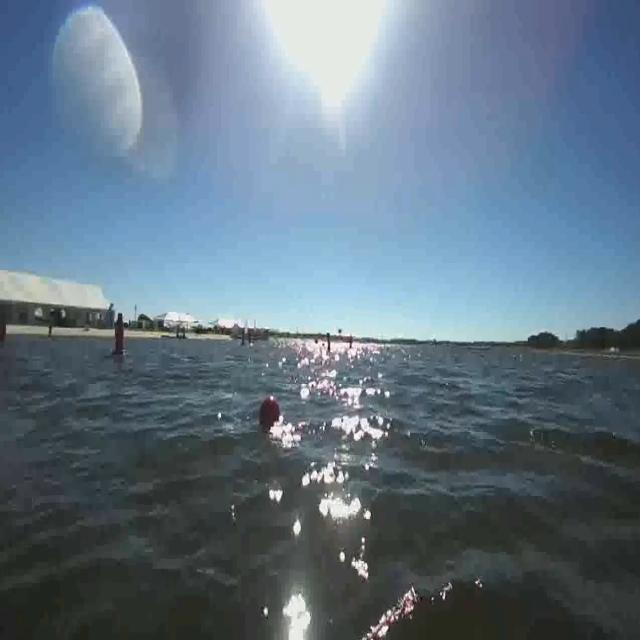red-buoy: (262, 396, 282, 430)
red-column-buoy: (111, 312, 127, 360)
